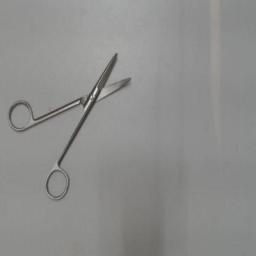Curved Mayo Scissors: (4, 44, 136, 208)
